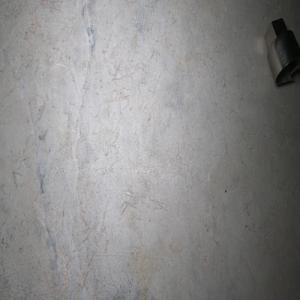MetalPart: (263, 17, 300, 85)
